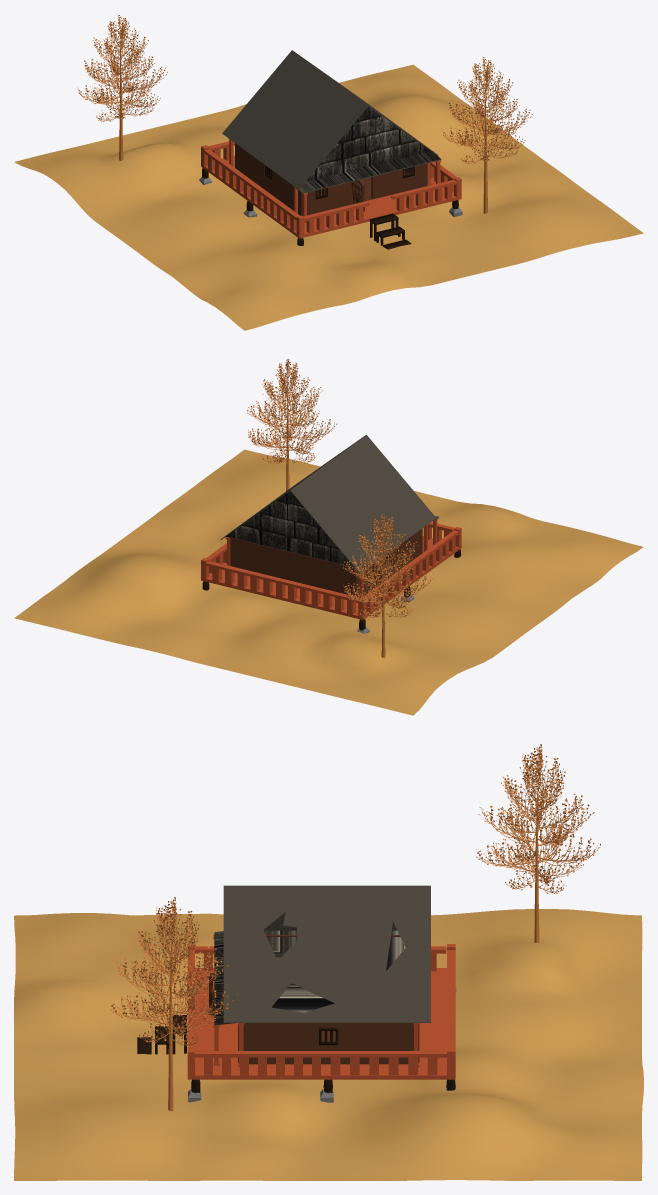
The model's file is home_sunda_final.fbx.
3 renders of one model, top to bottom at view 1: azimuth 30°, elevation 25°; view 2: azimuth 150°, elevation 25°; view 3: azimuth 270°, elevation 25°, orthographic. The views are drawn at different scales.
Visible parts, largest first — view 1: tanah, home_sunda, leaves.001, leaves, tree.001, tree; view 2: tanah, home_sunda, leaves.001, leaves, tree, tree.001; view 3: tanah, home_sunda, tree, tree.001, leaves.001, leaves.
Boxes of the visible parts, left/top/right/bottom form: tanah: left=14, top=64, right=643, bottom=330; home_sunda: left=199, top=50, right=462, bottom=249; leaves.001: left=442, top=57, right=532, bottom=163; leaves: left=77, top=14, right=167, bottom=121; tree.001: left=444, top=63, right=529, bottom=213; tree: left=79, top=22, right=163, bottom=160; tanah: left=14, top=449, right=643, bottom=715; home_sunda: left=201, top=434, right=461, bottom=633; leaves.001: left=247, top=359, right=337, bottom=465; leaves: left=343, top=514, right=432, bottom=619; tree: left=345, top=516, right=428, bottom=657; tree.001: left=248, top=363, right=331, bottom=491; tanah: left=14, top=909, right=643, bottom=1180; home_sunda: left=137, top=885, right=456, bottom=1102; tree: left=478, top=750, right=598, bottom=942; tree.001: left=112, top=904, right=229, bottom=1111; leaves.001: left=110, top=897, right=234, bottom=1046; leaves: left=476, top=744, right=600, bottom=893.
Size of the model in its own units: 3052 by 1170 by 3056.
